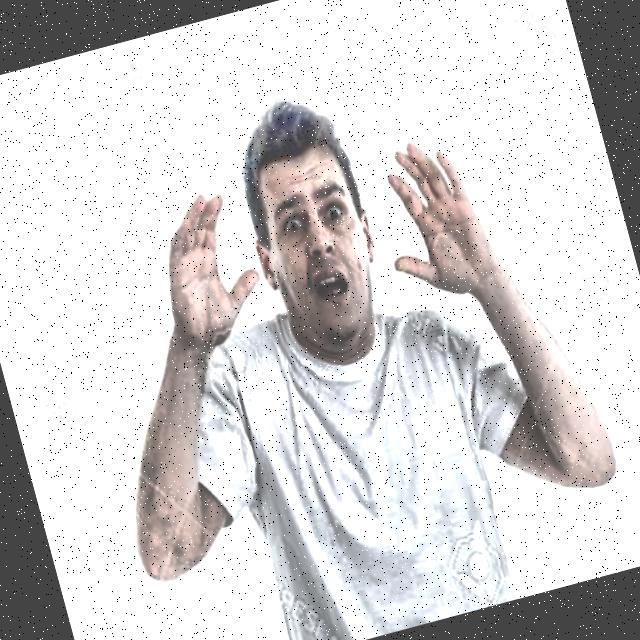fear: (206, 84, 420, 393)
